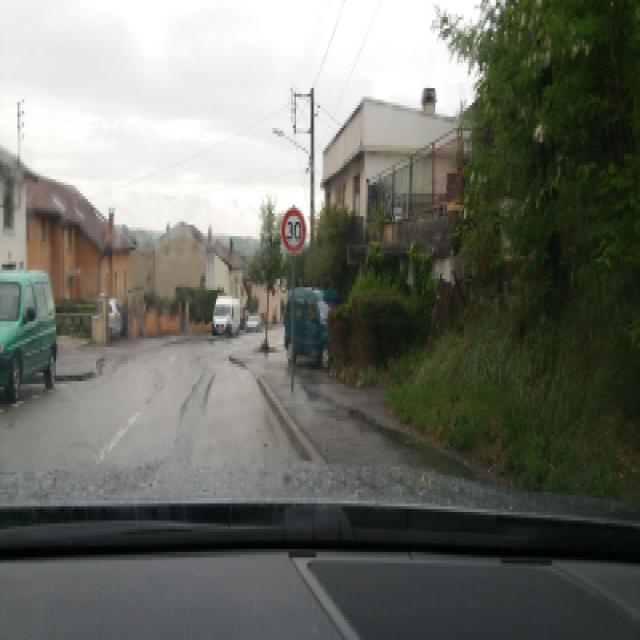speed_30: (281, 207, 307, 253)
